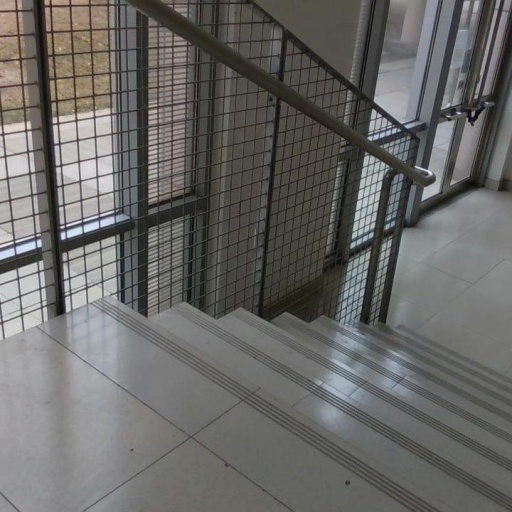Stairs: (67, 298, 512, 512)
